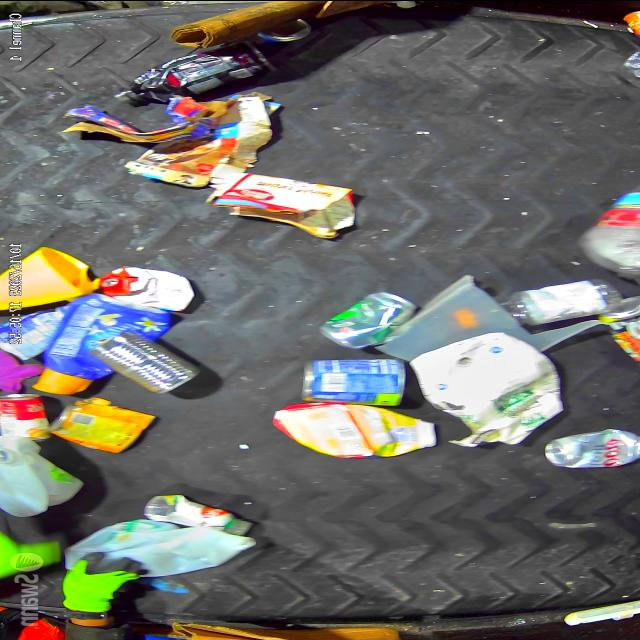can: (86, 328, 206, 393), (298, 356, 416, 408), (315, 289, 415, 345), (44, 398, 146, 449), (545, 432, 640, 466), (0, 392, 36, 442), (255, 14, 311, 42)
milk_jug: (62, 514, 248, 570)
non_white_jug: (28, 294, 116, 393)
plastic_bottle: (493, 280, 618, 320)
